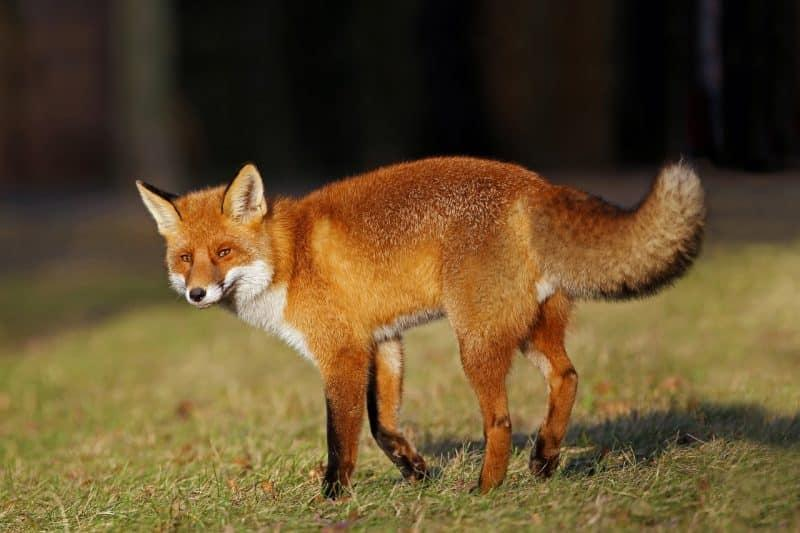fox: (106, 152, 718, 499)
